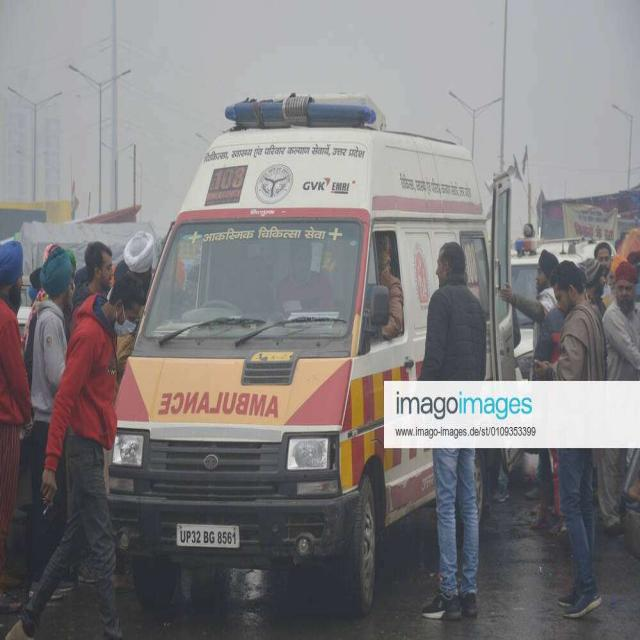emergency: (111, 97, 515, 614)
